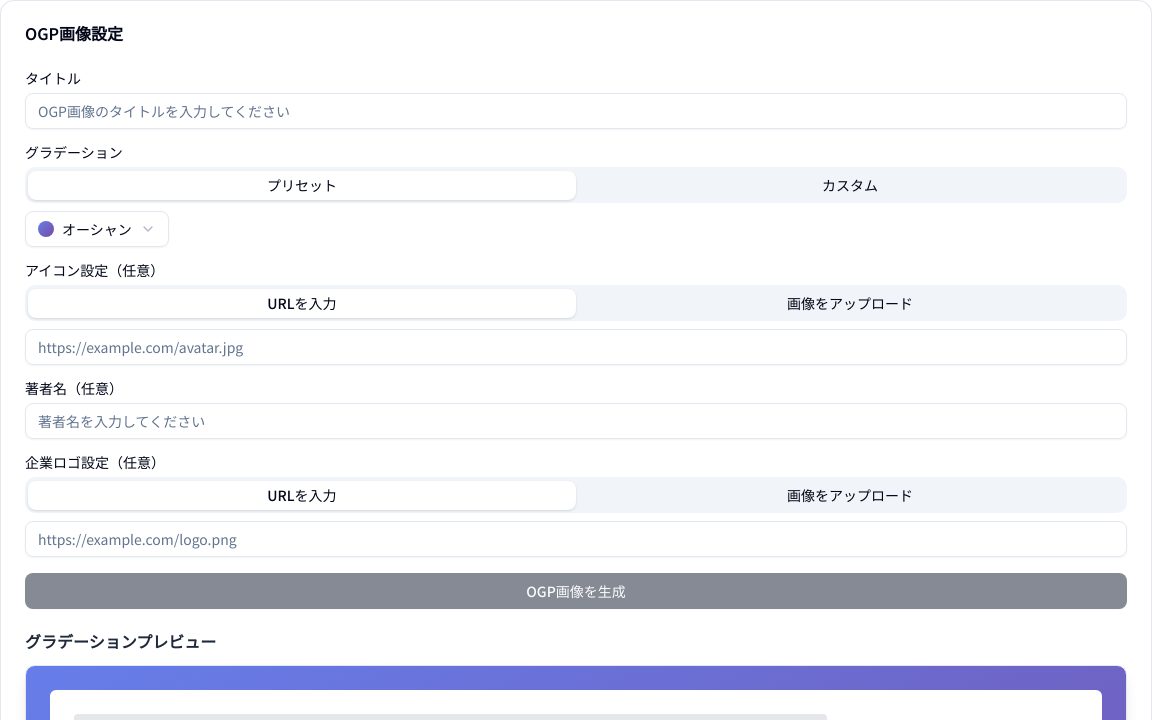
Scenario: OGP画像作成フォーム › 画像貼り付け機能 › ユーザーが企業ロゴエリアに画像を貼り付けるとき › 貼り付けた画像のプレビューが表示される
What coordinates should you click on to do the following:
click the 2nd tab "画像をアップロード"
I would click on:
 (850, 495)
Its box is left=576, top=480, right=1124, bottom=510.
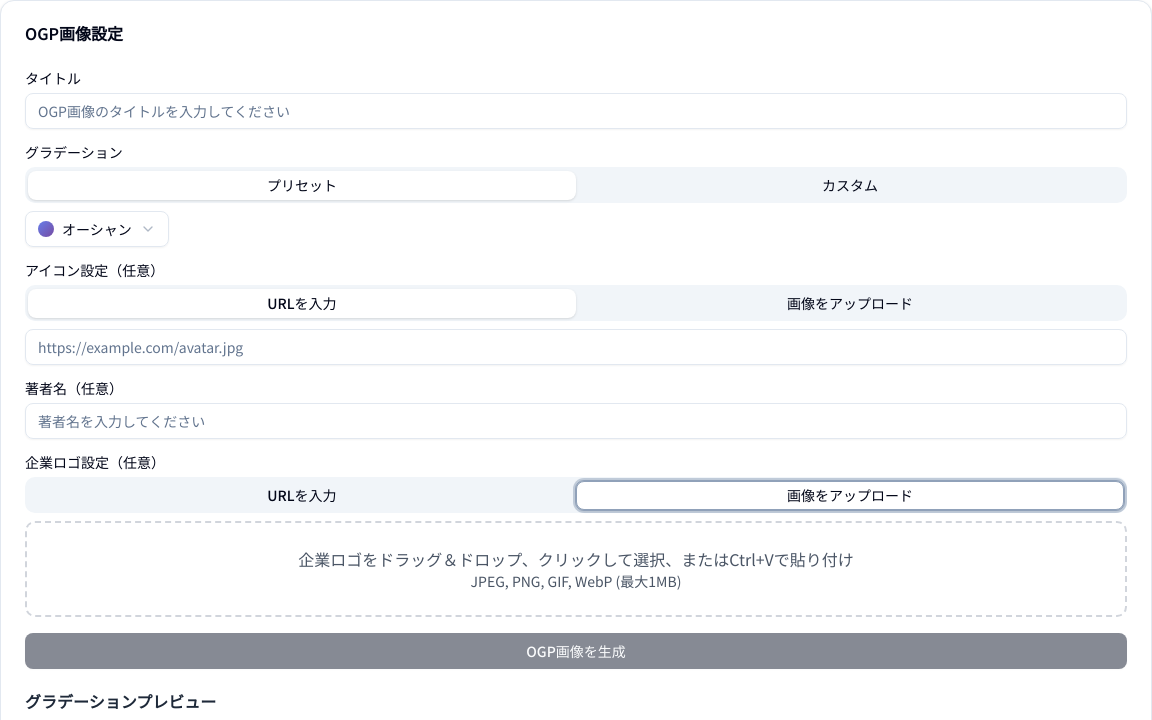
Result: the text "JPEG, PNG, GIF, WebP (最大1MB)" is shown at left=471, top=571, right=681, bottom=591
